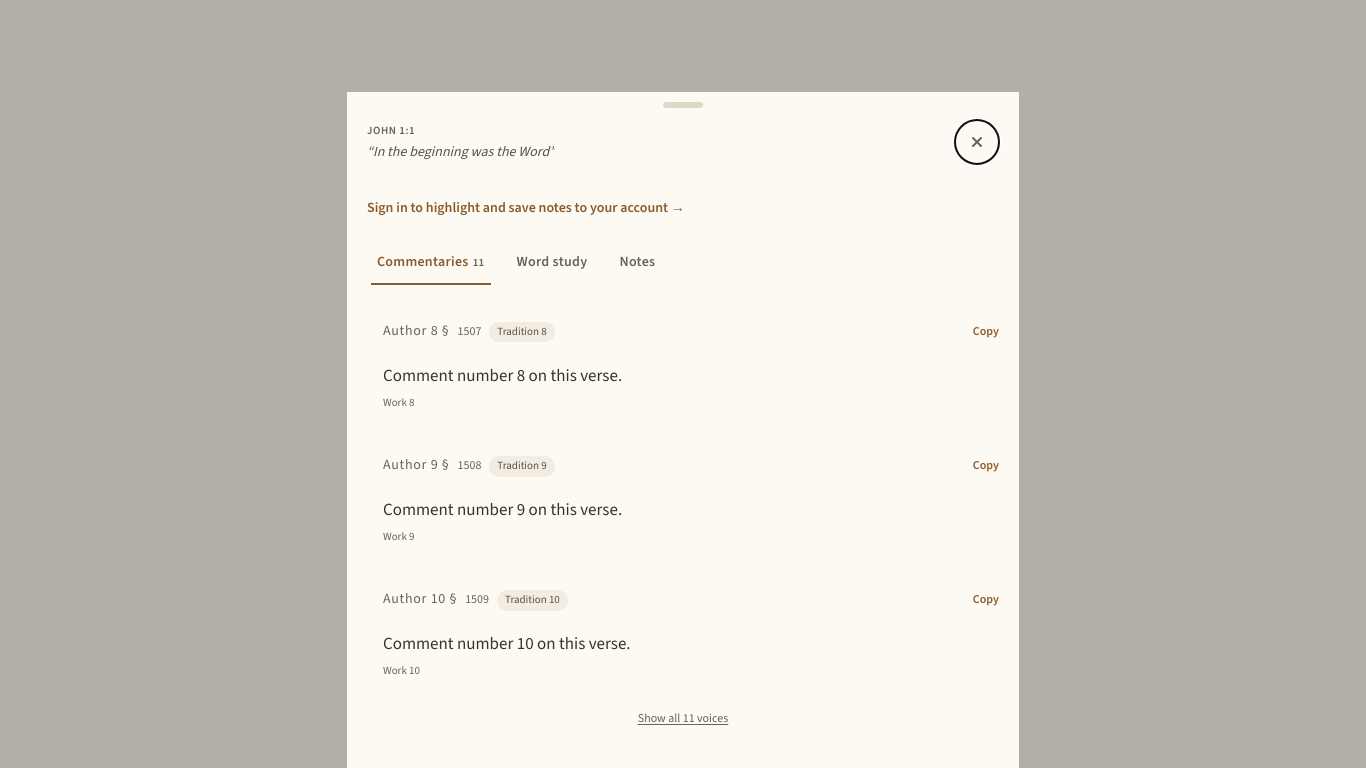
it: Q3 — a stated shortfall comes with a way to close it › 11 voices: ten render, and the 11th is reachable
(page scrolled)
Expected: the text "Comment number 11 on this verse" is not shown
Click the button "Show all 11 voices".
click(683, 718)  # box left=367, top=696, right=999, bottom=740
(page scrolled)
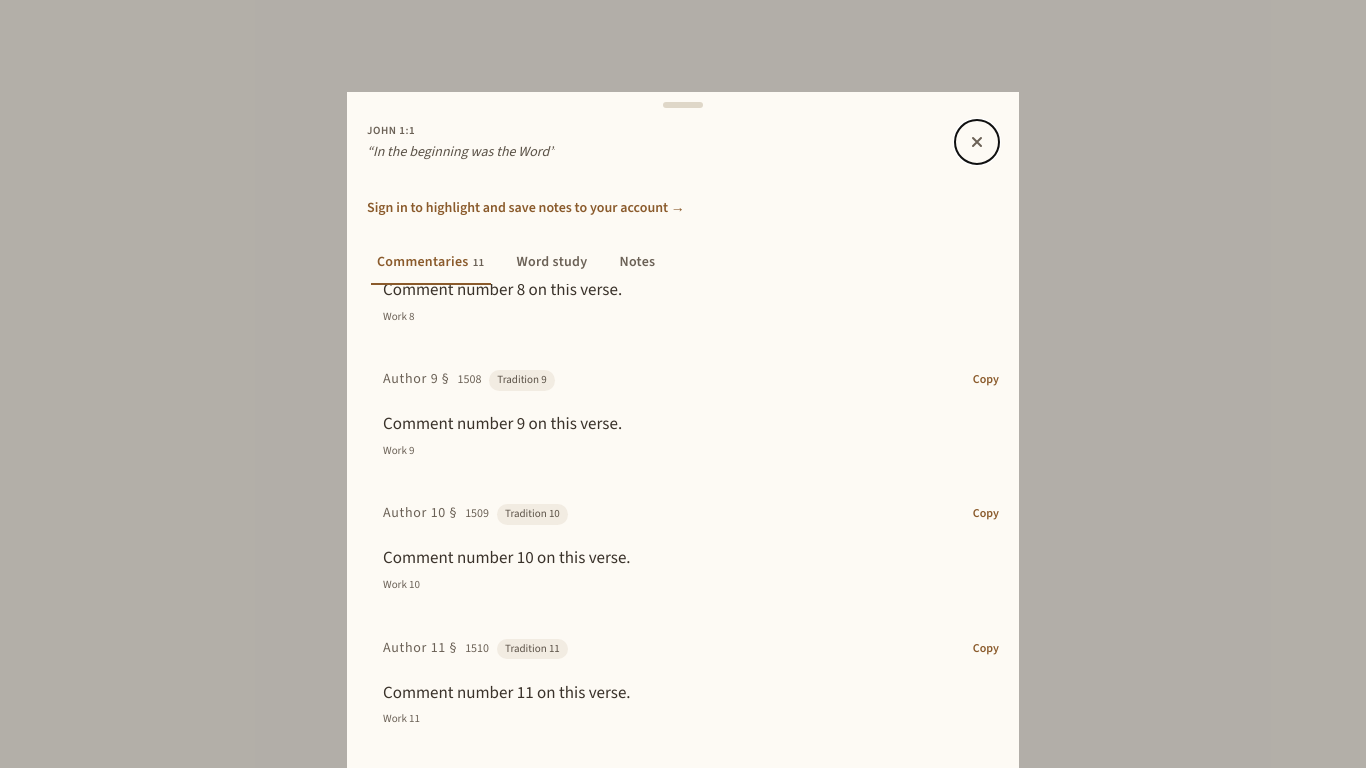
Now the text "Comment number 11 on this verse." is shown, box left=383, top=681, right=631, bottom=704
